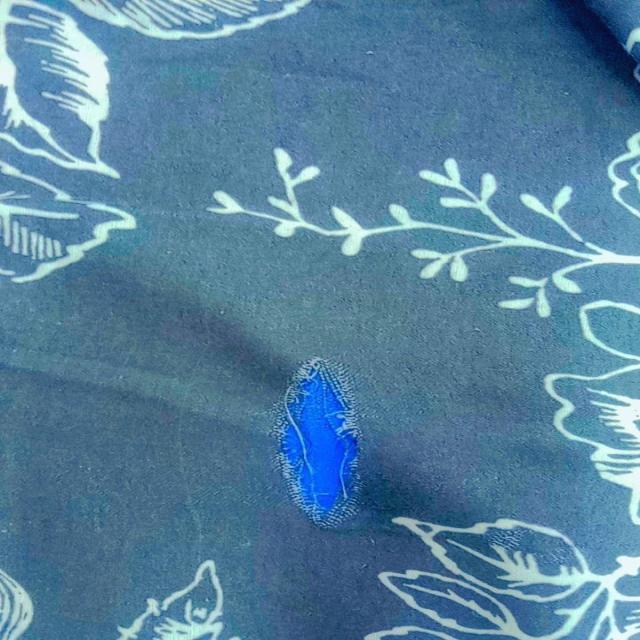cut: (264, 346, 372, 536)
